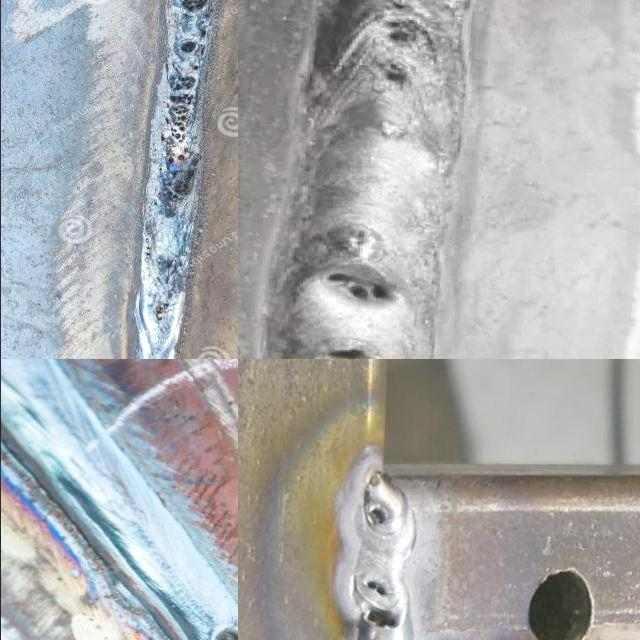defect: (156, 28, 216, 206), (316, 267, 404, 310), (379, 3, 421, 52), (373, 58, 421, 94), (361, 608, 401, 636), (316, 344, 389, 359), (363, 576, 391, 600), (149, 300, 176, 324), (176, 0, 209, 17), (209, 624, 237, 640), (366, 506, 386, 528)
